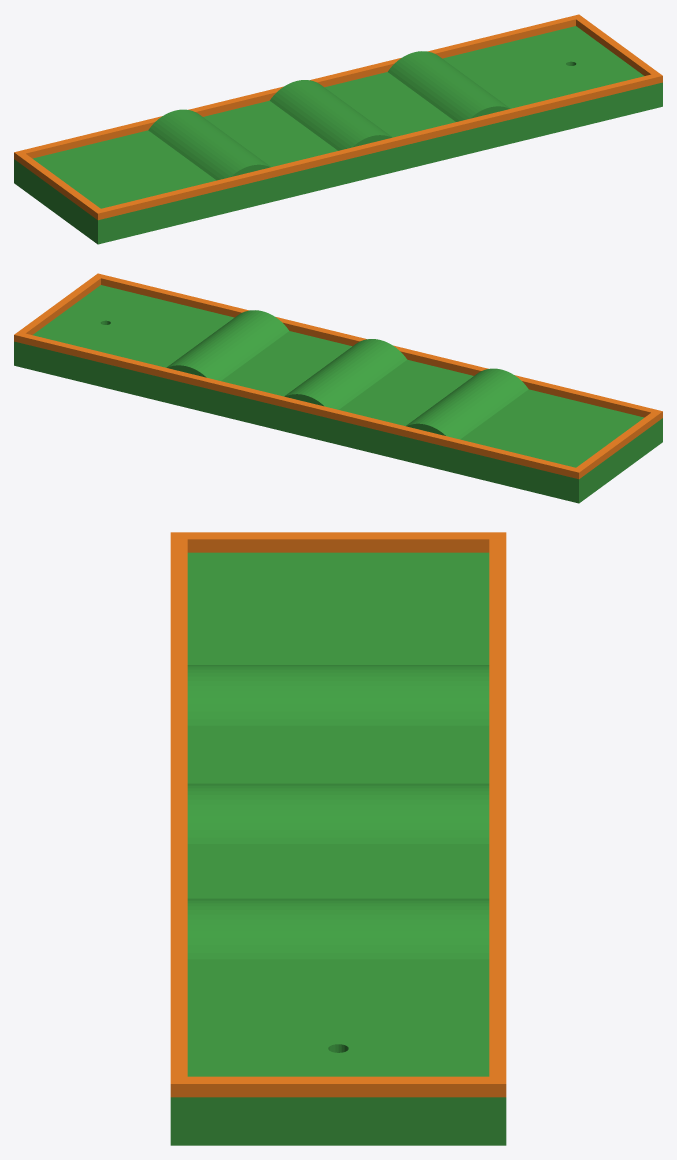
The model's file is tinker.obj.
3 views of the same model, one above another, from view 1: azimuth 30°, elevation 25°; view 2: azimuth 150°, elevation 25°; view 3: azimuth 270°, elevation 25° (orthographic). The views are drawn at different scales.
Parts seen in each view (by area): view 1: group_0_4170049, group_0_16089887; view 2: group_0_4170049, group_0_16089887; view 3: group_0_4170049, group_0_16089887.
Boxes of the visible parts, x1,y1,x2,y2 form: group_0_4170049: [14, 26, 662, 244]; group_0_16089887: [14, 14, 662, 220]; group_0_4170049: [14, 285, 662, 503]; group_0_16089887: [14, 273, 662, 479]; group_0_4170049: [170, 552, 506, 1145]; group_0_16089887: [170, 532, 506, 1097].
Size of the model in its own units: 158 by 10 by 40.67.
